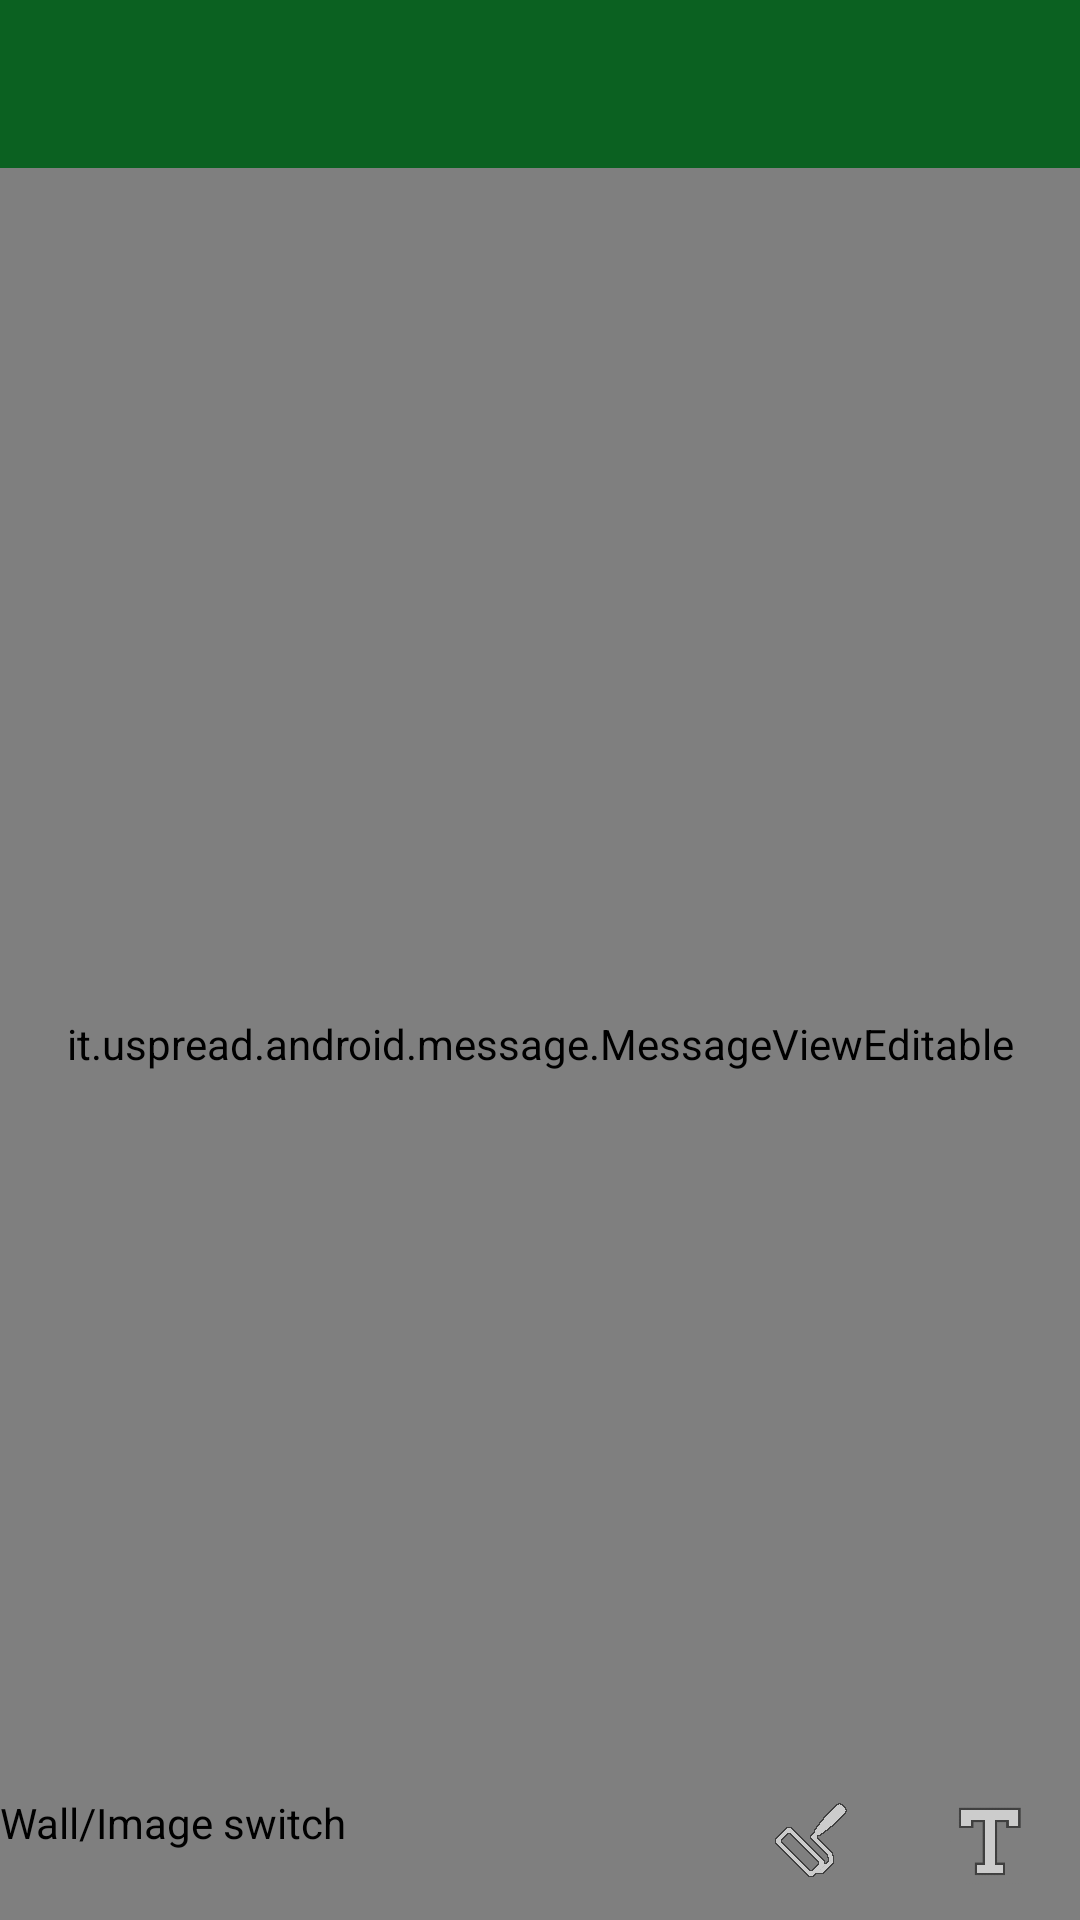

Icons on this 1080 x 1920 Android screen, each with the point to tap as (x,y):
Text color: (990,1841)
